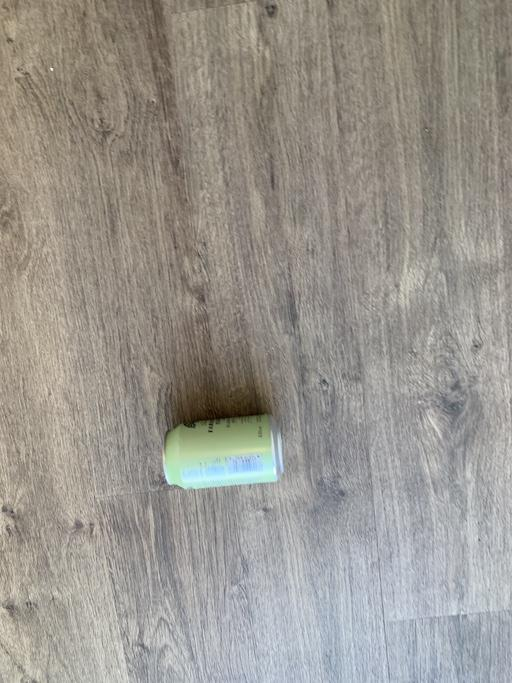Aluminum can: (138, 411, 306, 504)
